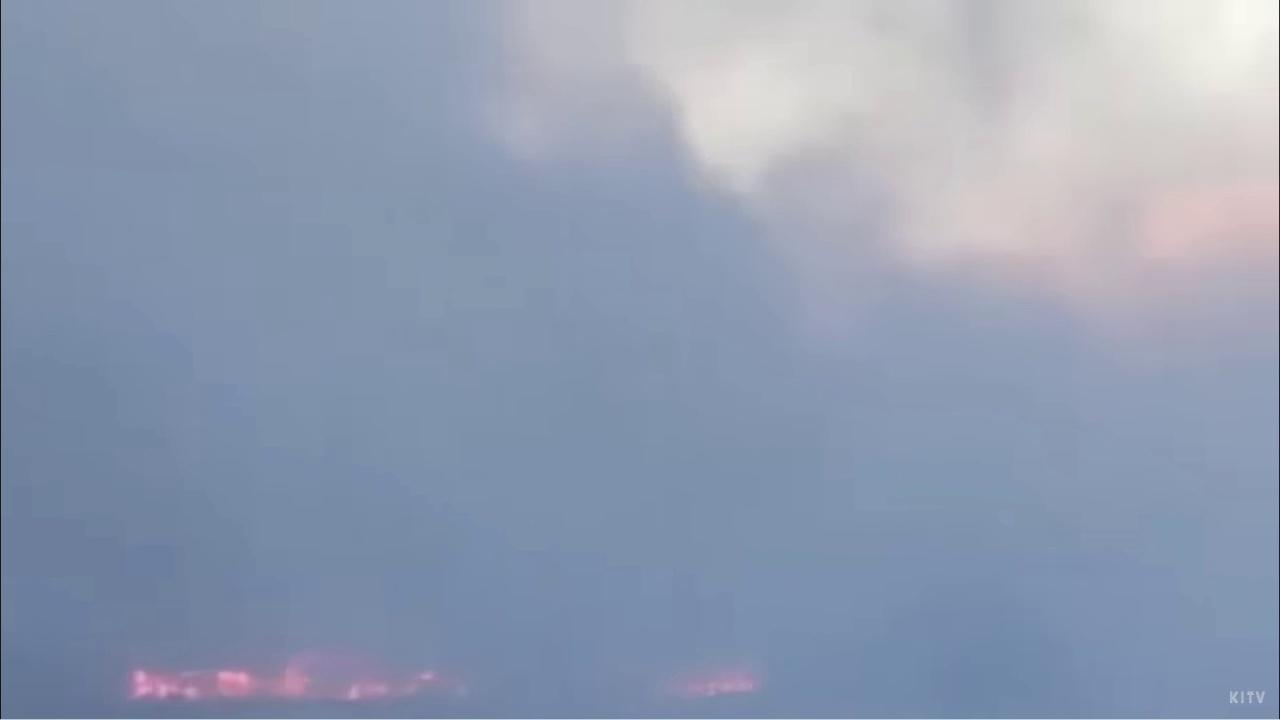fire: (123, 646, 441, 710), (676, 667, 760, 703)
smoke: (0, 0, 1280, 720)
